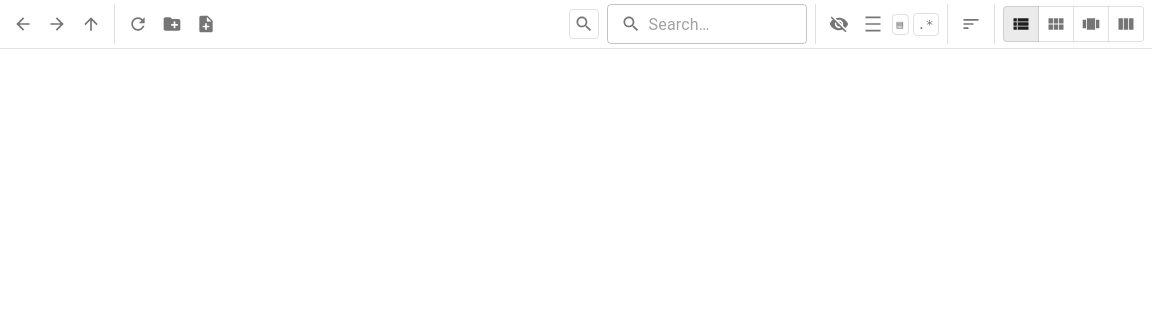
Test: Toolbar — extras › Sort menu opens and exposes the documented sort keys
Click the button named "sort" at x=971, y=24, box [956,9,986,39]
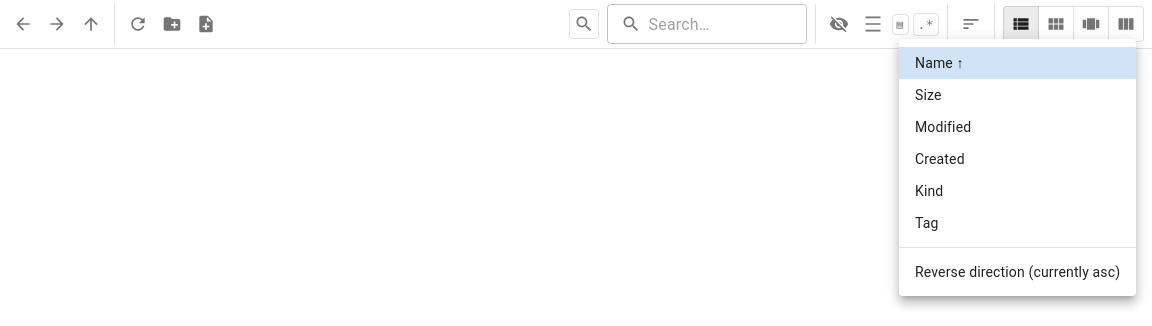
Expected: the menu is shown, [899,39,1136,296]
